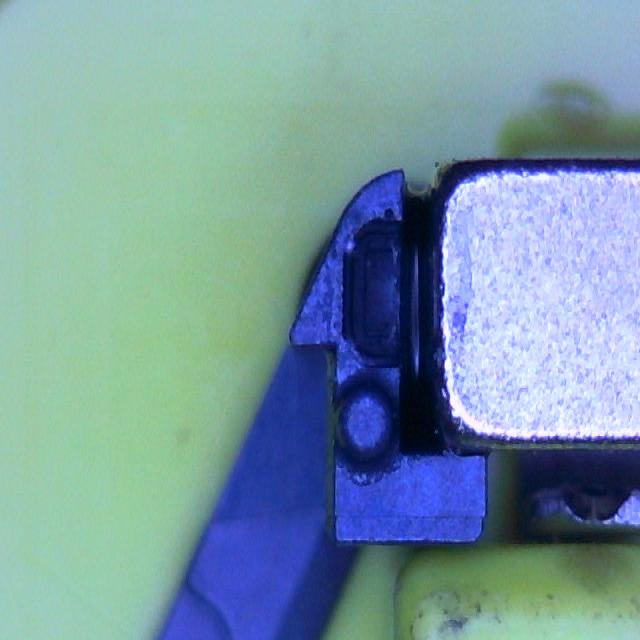over: (341, 215, 414, 371)
